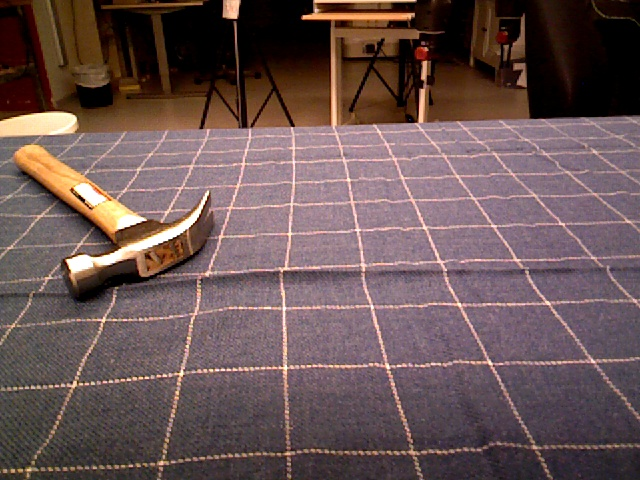hammer1: (11, 145, 217, 304)
